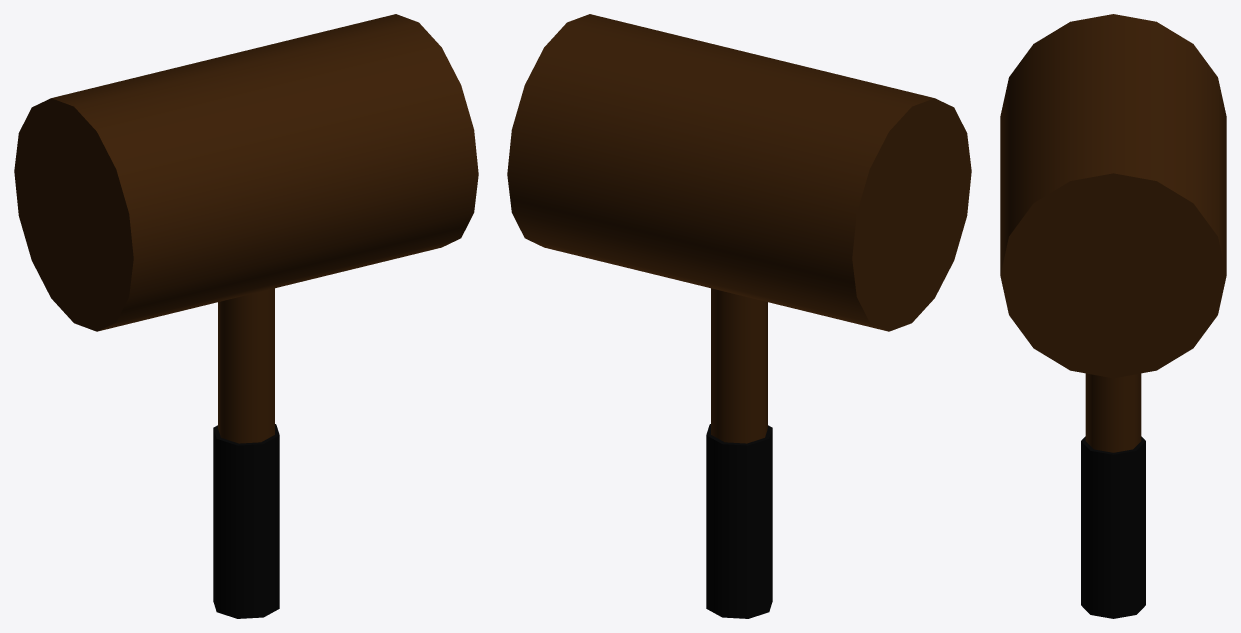
The model's file is maillet.FBX.
3 views of the same model, side by side, from view 1: azimuth 30°, elevation 25°; view 2: azimuth 150°, elevation 25°; view 3: azimuth 270°, elevation 25° (orthographic). The views are drawn at different scales.
Parts seen in each view (by area): view 1: Cylinder002, Cylinder001; view 2: Cylinder002, Cylinder001; view 3: Cylinder002, Cylinder001.
Boxes of the visible parts, x1,y1,x2,y2 form: Cylinder002: [14, 14, 478, 331]; Cylinder001: [213, 288, 279, 618]; Cylinder002: [507, 14, 971, 331]; Cylinder001: [706, 288, 772, 618]; Cylinder002: [1000, 14, 1226, 378]; Cylinder001: [1081, 373, 1145, 618].
Bounding box in the file's own units: 15.75 × 23.57 × 9.45.
